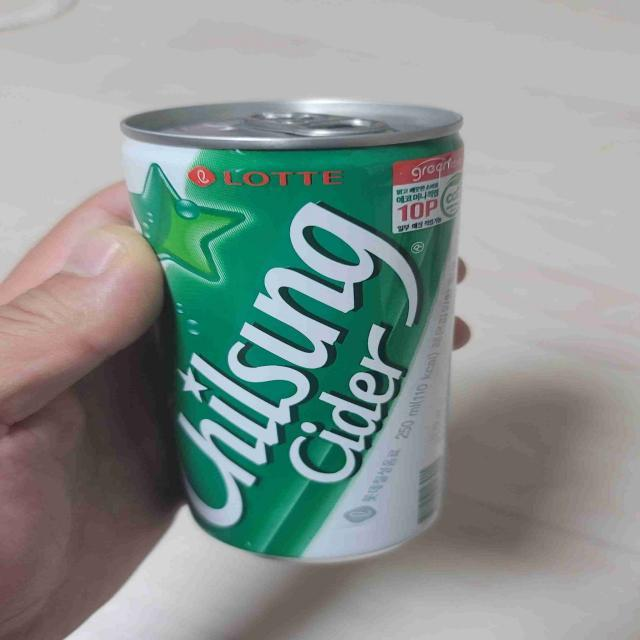kimloai: (122, 100, 462, 559)
